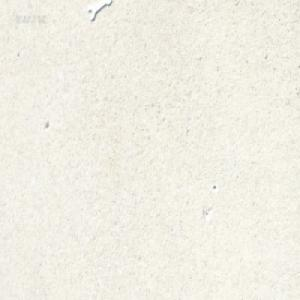Wrench: (87, 1, 111, 24)
